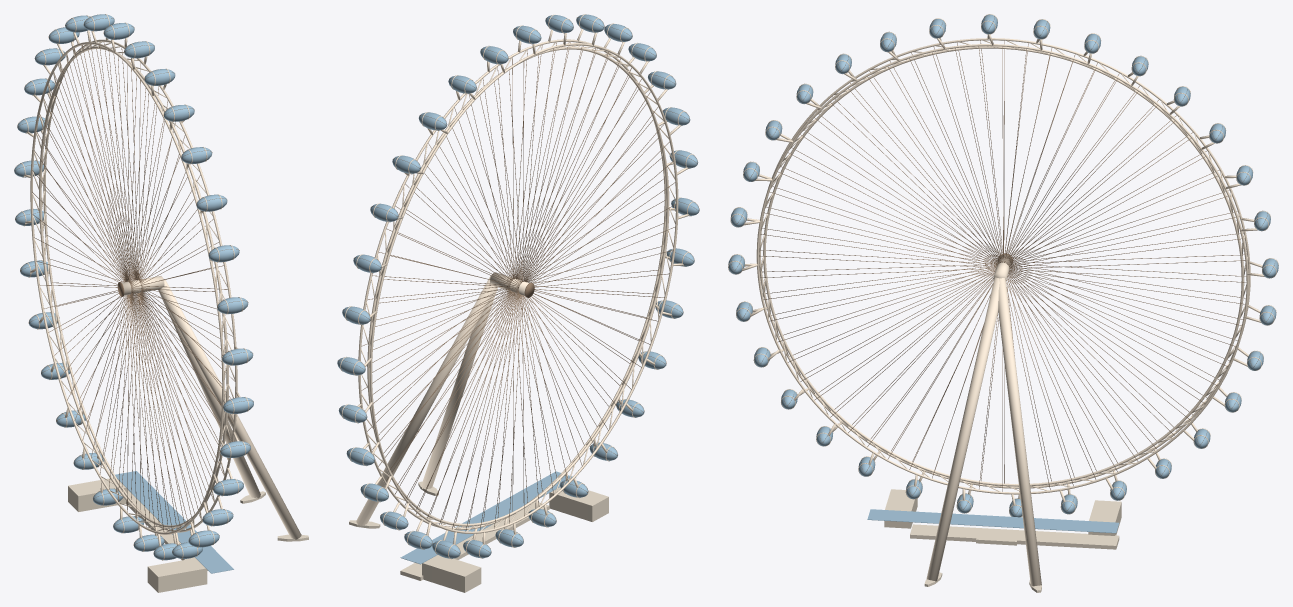
Rendered from detail.glb.
The picture shows the model from 3 angles, left to right: view 1: azimuth 30°, elevation 25°; view 2: azimuth 150°, elevation 25°; view 3: azimuth 270°, elevation 25°; orthographic projection. The views are drawn at different scales.
Visible parts, largest first — view 1: metal, trim, glass, stone; view 2: metal, trim, glass, stone; view 3: metal, trim, glass, stone.
Part boxes in pixels (x1,y1,x2,y2): metal: (14,14,253,553); trim: (20,14,301,560); glass: (14,14,253,573); stone: (68,478,308,592); metal: (338,17,699,553); trim: (340,14,695,558); glass: (337,14,699,564); stone: (349,481,608,592); metal: (731,16,1274,514); trim: (728,14,1278,586); glass: (728,14,1278,533); stone: (884,489,1121,592).
Size of the model in its own units: 53.81 by 135 by 134.
